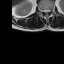CCS_stenosis: (45, 7, 47, 15)
LFS_normal: (50, 7, 52, 13)
LLS_normal: (47, 7, 50, 14)
RFS_normal: (41, 7, 43, 13)
RLS_normal: (43, 7, 45, 13)
